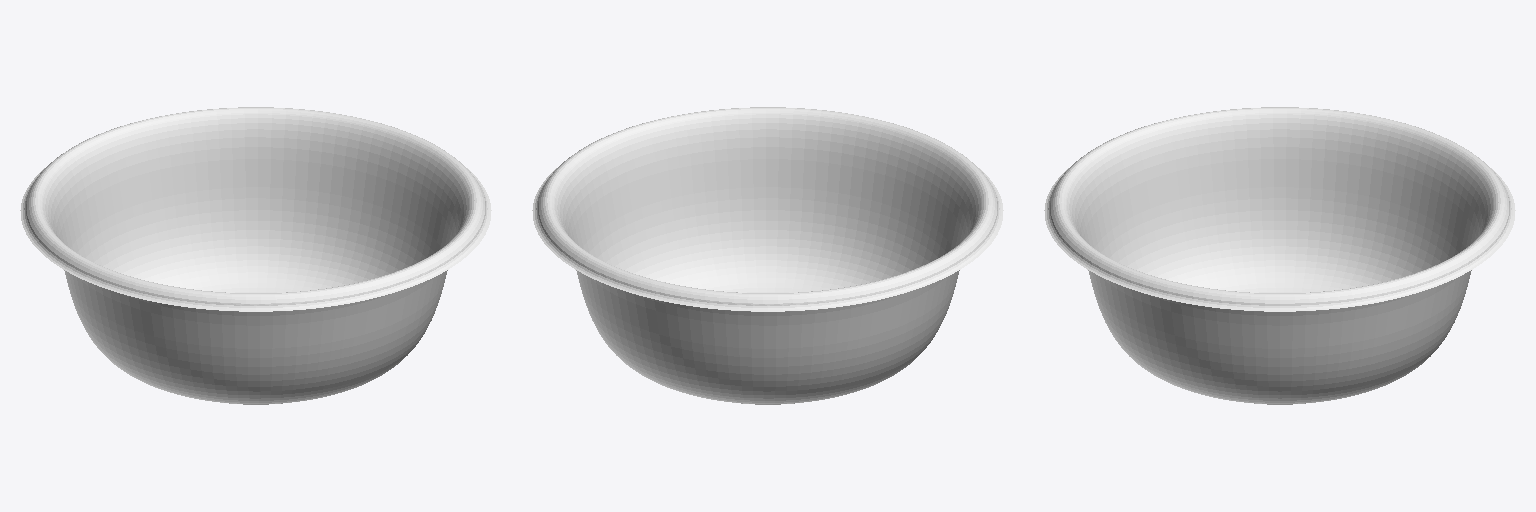
URDF robot description (rl_bowl):
<?xml version="1.0"?>
<robot name="rl_bowl">

  <link name="bowl_base">
    <visual>
      <origin xyz="0 0 0.003" rpy="0 0 0"/>
      <!-- scale converts mm → m -->
      <geometry>
        <mesh filename="rl_bowl.stl" scale="0.001 0.001 0.001"/>
      </geometry>
      <material name="bowl_white">
        <color rgba="0.95 0.95 0.95 1.0"/>
      </material>
    </visual>

    <collision>
      <origin xyz="0 0 0.003" rpy="0 0 0"/>
      <geometry>
        <mesh filename="rl_bowl.stl" scale="0.001 0.001 0.001"/>
      </geometry>
    </collision>

    <inertial>
      <!-- ~200g bowl, approximated as solid cylinder for inertia -->
      <!-- r=0.078m, h=0.057m, m=0.2kg -->
      <!-- Ixx = Iyy = m/12*(3r^2+h^2) = 0.2/12*(3*0.006084+0.003249) = 0.000360 -->
      <!-- Izz = m/2*r^2 = 0.2/2*0.006084 = 0.000608 -->
      <origin xyz="0 0 0.028" rpy="0 0 0"/>
      <mass value="0.2"/>
      <inertia
        ixx="0.000360" ixy="0.0" ixz="0.0"
        iyy="0.000360" iyz="0.0"
        izz="0.000608"/>
    </inertial>
  </link>

</robot>

--- Render facts (derived) ---
3 views of the same robot in one strip: view 1: azimuth 30°, elevation 25°; view 2: azimuth 150°, elevation 25°; view 3: azimuth 270°, elevation 25° (orthographic).
Robot: rl_bowl — 1 links, 0 joints (none); root link bowl_base; default pose: all joints at 0.
Links seen in each view (by area): view 1: bowl_base; view 2: bowl_base; view 3: bowl_base.
Link boxes in pixels (box(x1,y1,x2,y2)): bowl_base: box(20, 107, 491, 404); bowl_base: box(532, 107, 1003, 404); bowl_base: box(1044, 107, 1515, 404).
Size in the robot's own frame: 0.156 by 0.156 by 0.0571 metres.
Meshes: 1 distinct files referenced, 1 mesh visuals loaded (1 binary STL).
